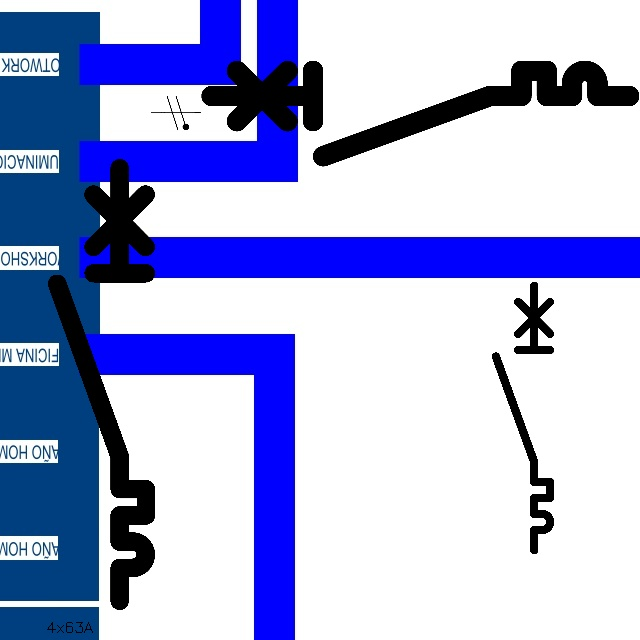interruptor_termomagnetico: (46, 157, 157, 612), (200, 60, 639, 167), (489, 279, 557, 557)
